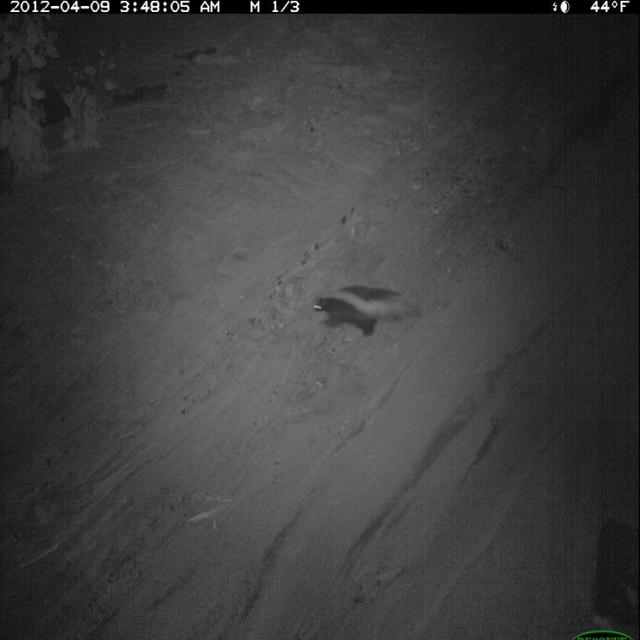skunk: (313, 278, 422, 344)
